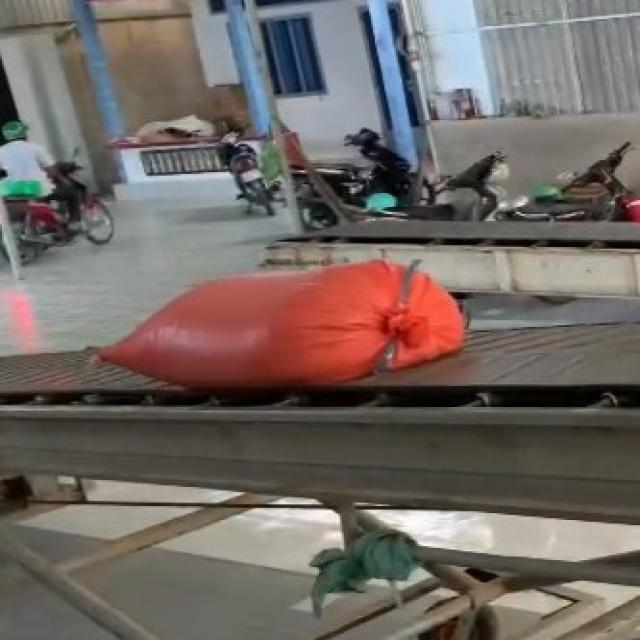gunny_bag: (100, 261, 467, 389)
